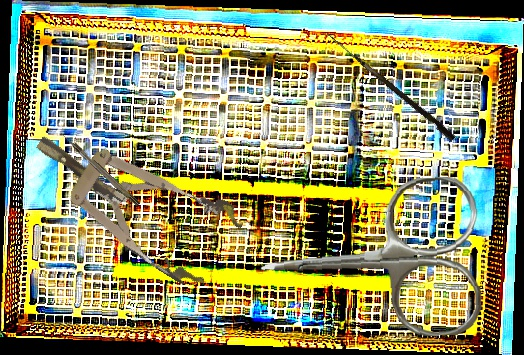Hook Surgical: (321, 32, 458, 142), (59, 130, 141, 208)
Iris Scissors: (256, 175, 484, 345)
Speculum: (15, 100, 249, 296)
